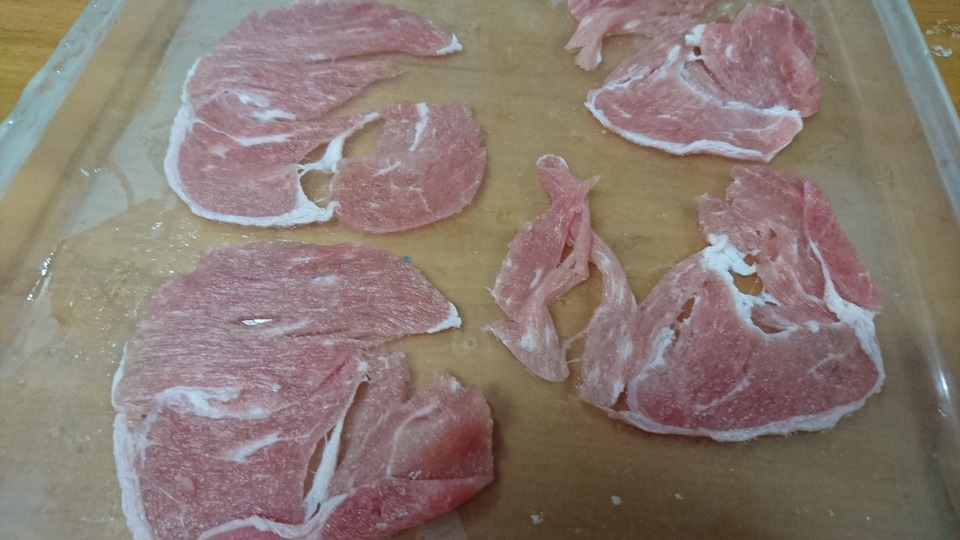restructured meat: (495, 169, 889, 438), (108, 249, 467, 540), (167, 6, 486, 233), (555, 1, 812, 163)
